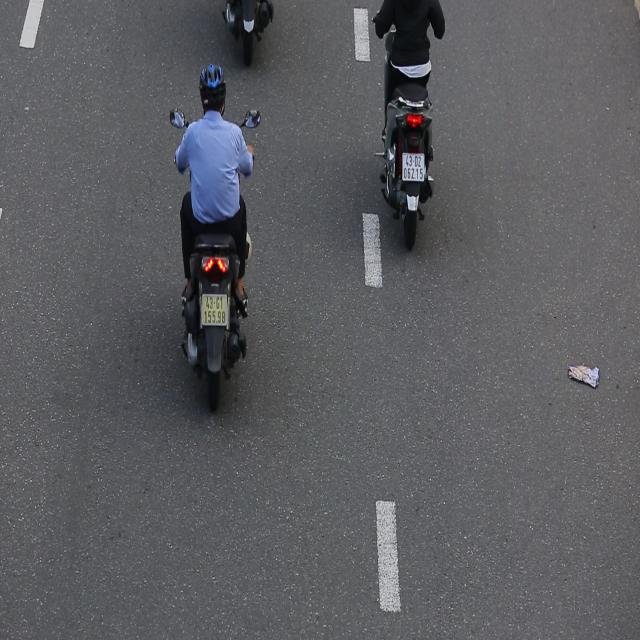motorbike: (166, 47, 271, 420)
